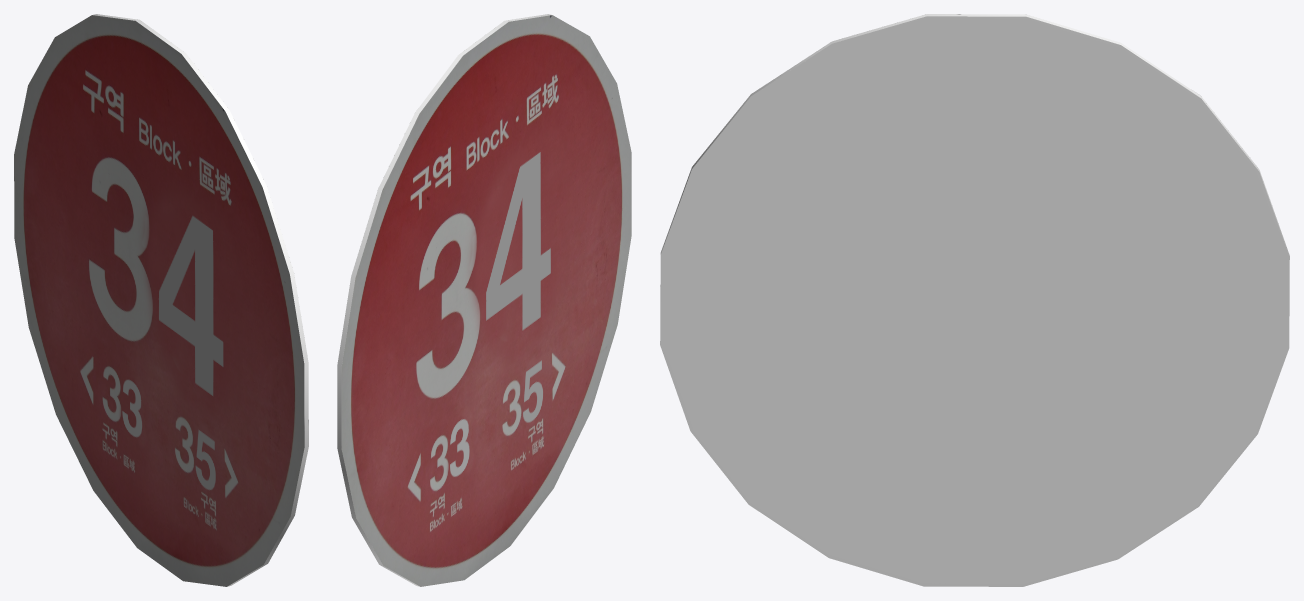
File: SM_013_Seat_5_2.fbx
The picture shows the model from 3 angles, left to right: view 1: azimuth 30°, elevation 25°; view 2: azimuth 150°, elevation 25°; view 3: azimuth 270°, elevation 25°; orthographic projection. The views are drawn at different scales.
Visible parts, largest first — view 1: SM_013_Seat_5_2; view 2: SM_013_Seat_5_2; view 3: SM_013_Seat_5_2.
Part boxes in pixels (x1,y1,x2,y2): SM_013_Seat_5_2: (14,14,308,586); SM_013_Seat_5_2: (337,14,631,586); SM_013_Seat_5_2: (660,14,1289,586).
Bounding box in the file's own units: 0.3879 × 44.73 × 44.73.
1 material, 1 textured.
